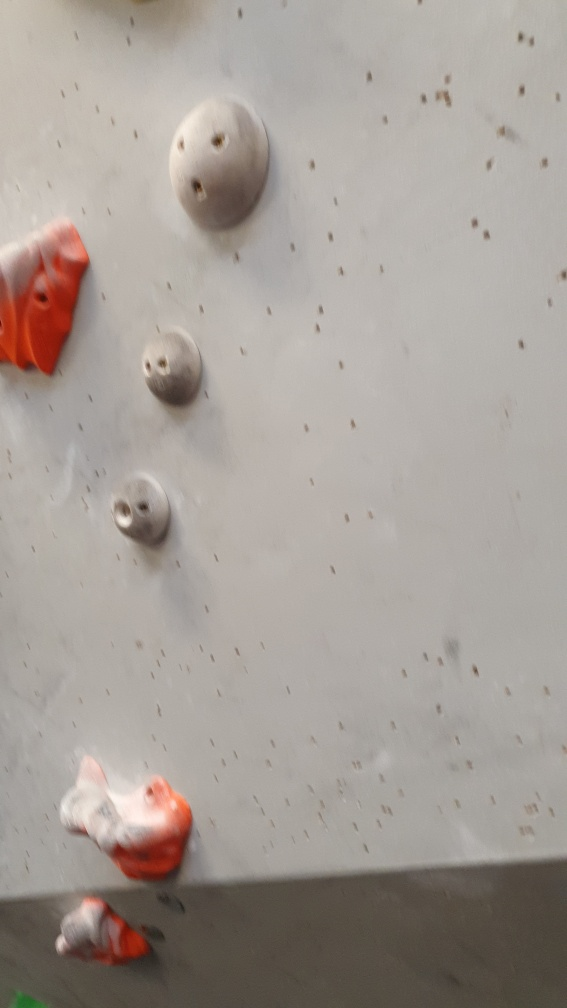Hand Start: (138, 920, 171, 946), (157, 888, 186, 917)
Jug: (62, 749, 195, 885), (1, 219, 99, 380)
Sloper: (166, 92, 271, 230), (138, 324, 206, 411), (106, 468, 173, 549)
